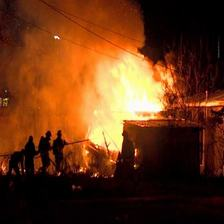fire: (77, 43, 180, 150), (68, 149, 131, 178), (177, 89, 224, 115), (1, 153, 10, 177)
